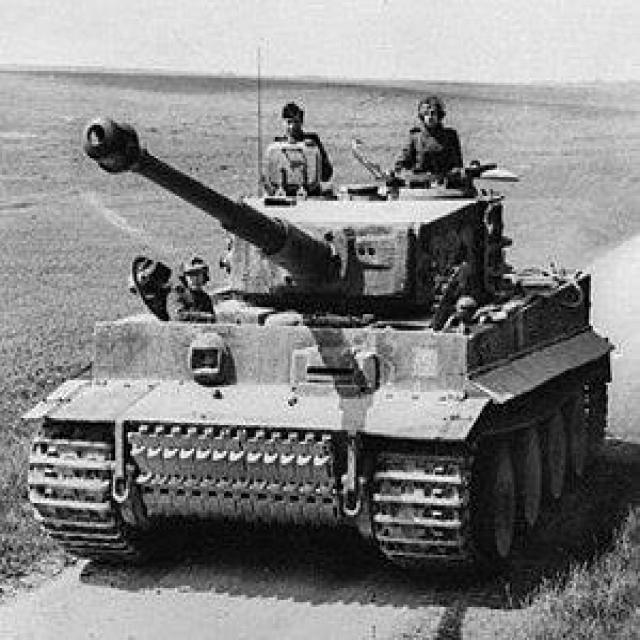Tanks: (36, 123, 559, 571)
